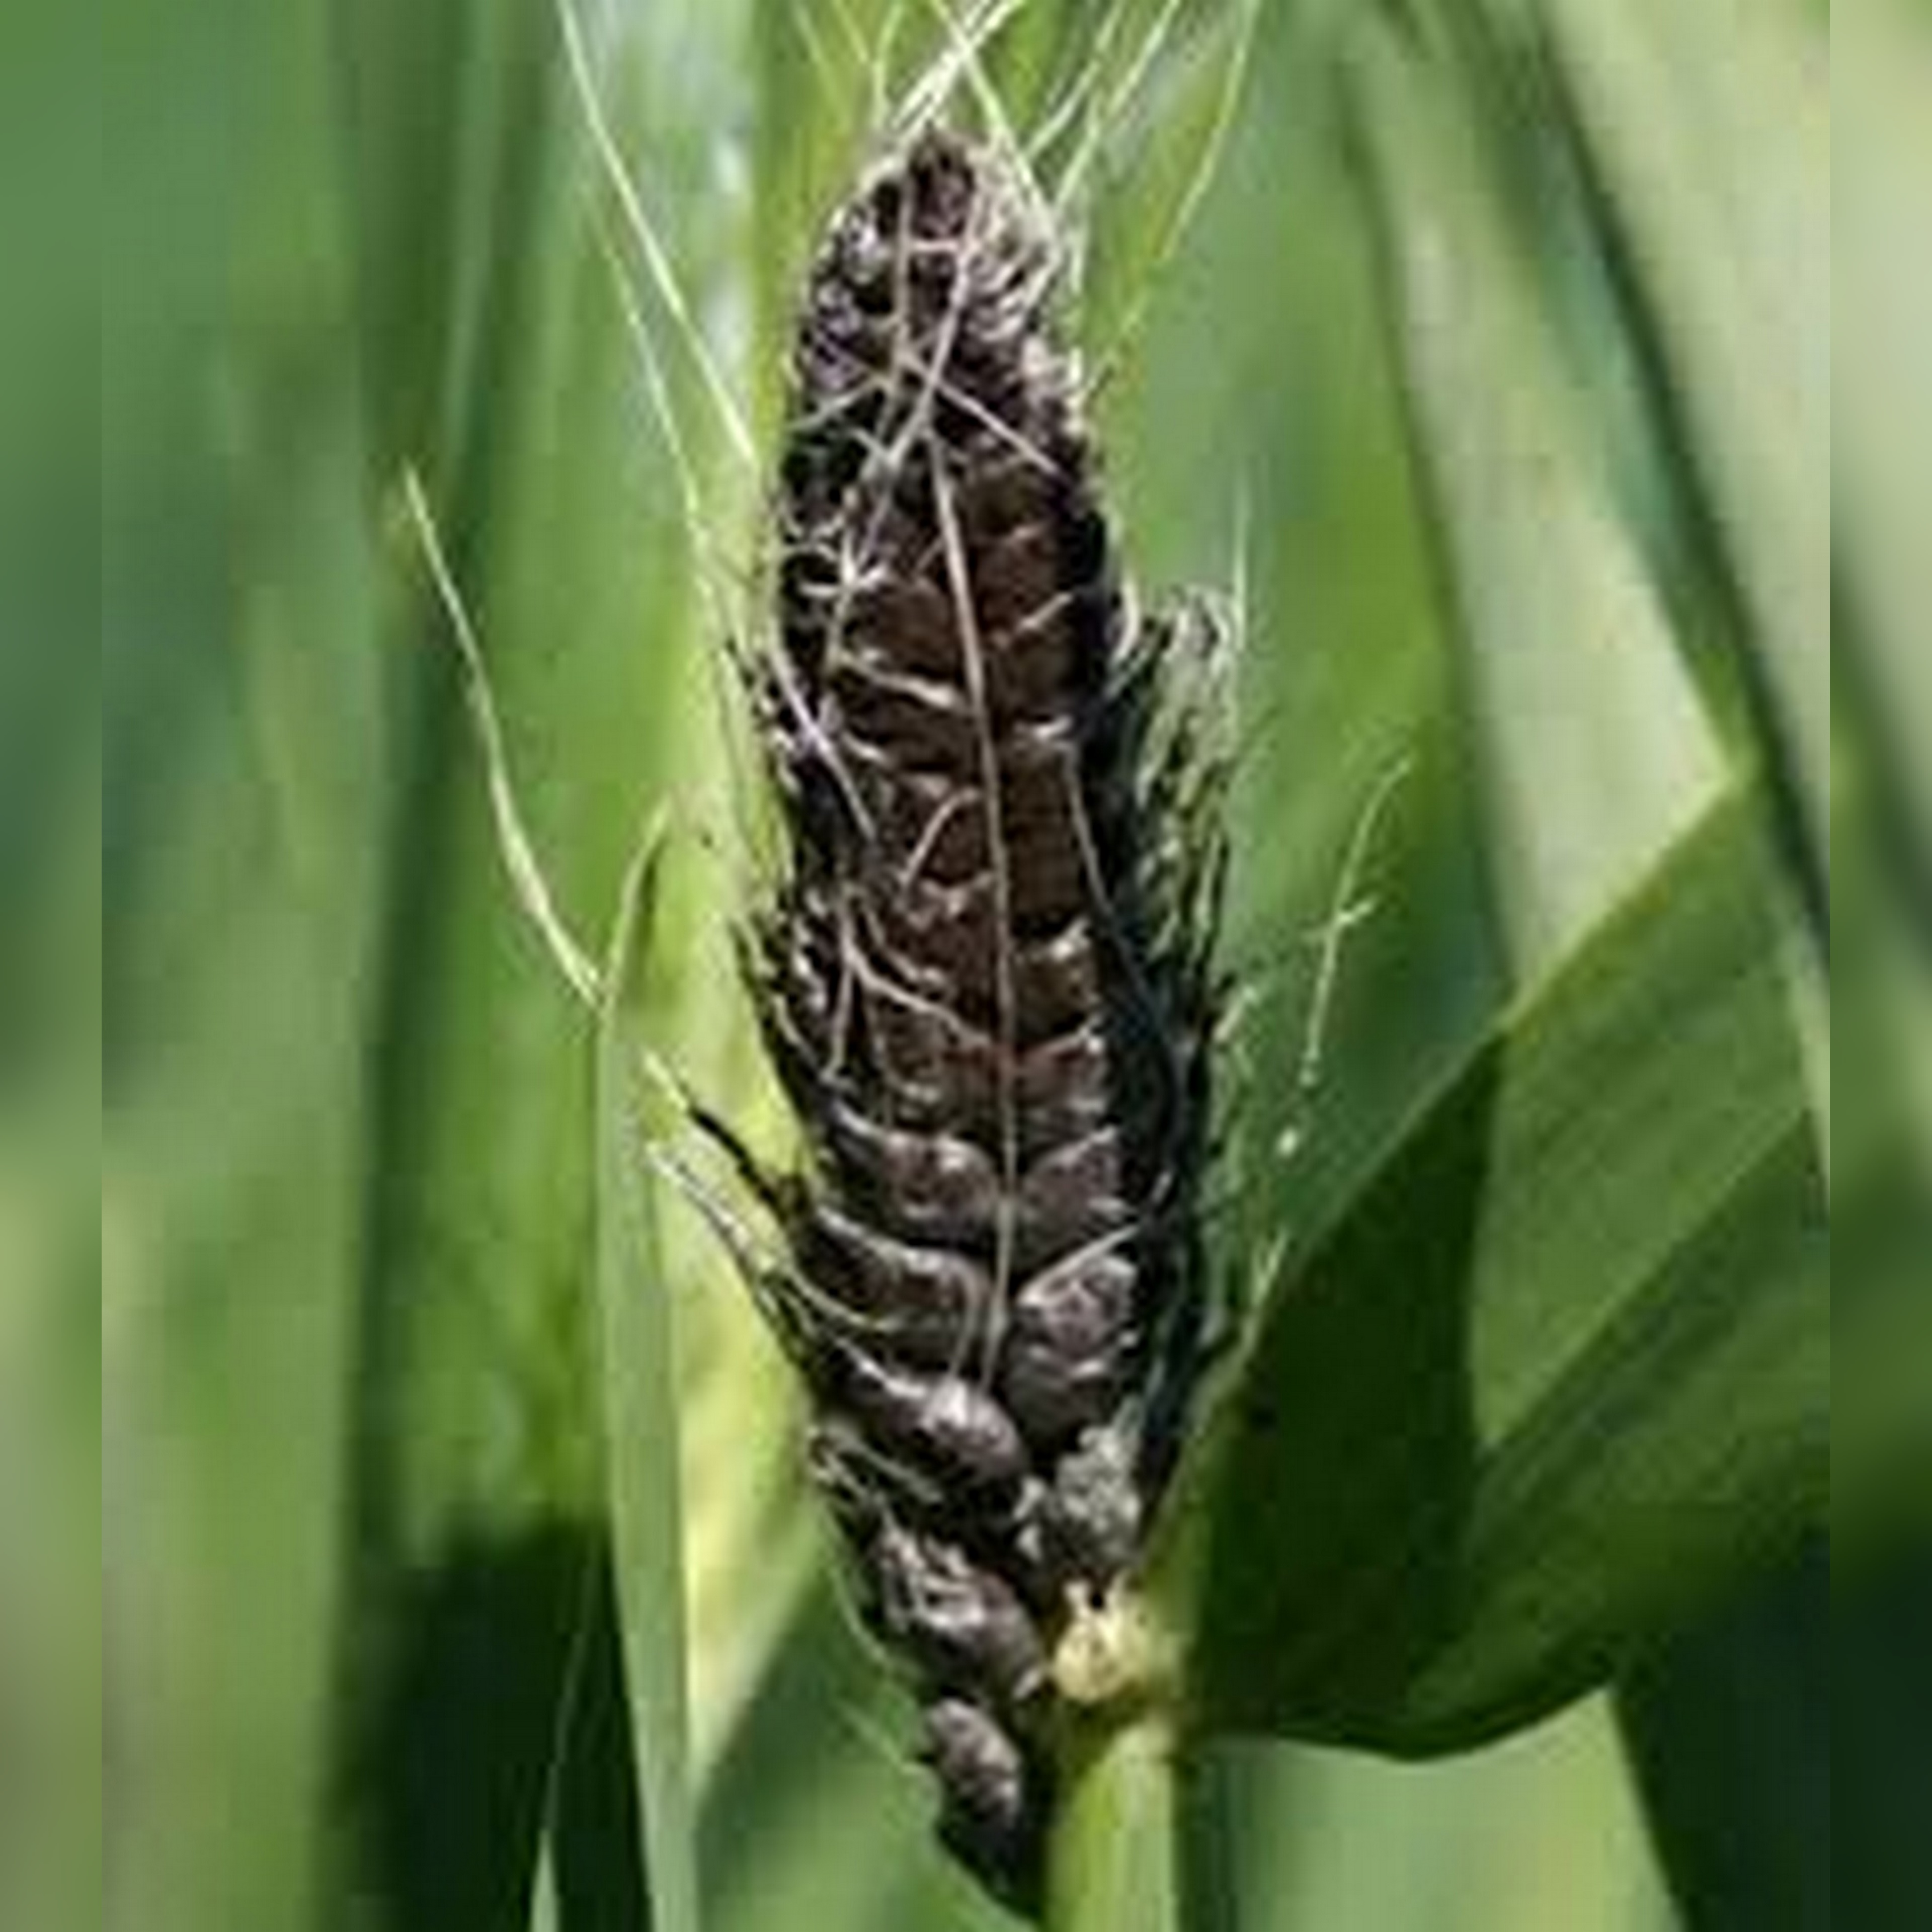Wheat Loose Smut: (686, 142, 1361, 1805)
